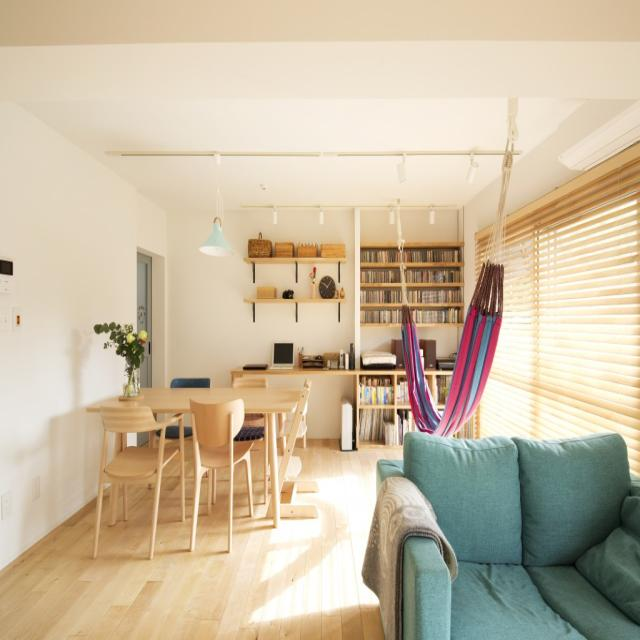natural chair: (94, 402, 174, 550), (184, 396, 250, 551)
natural desk: (90, 380, 298, 533)
natural sofa: (374, 431, 640, 640)
